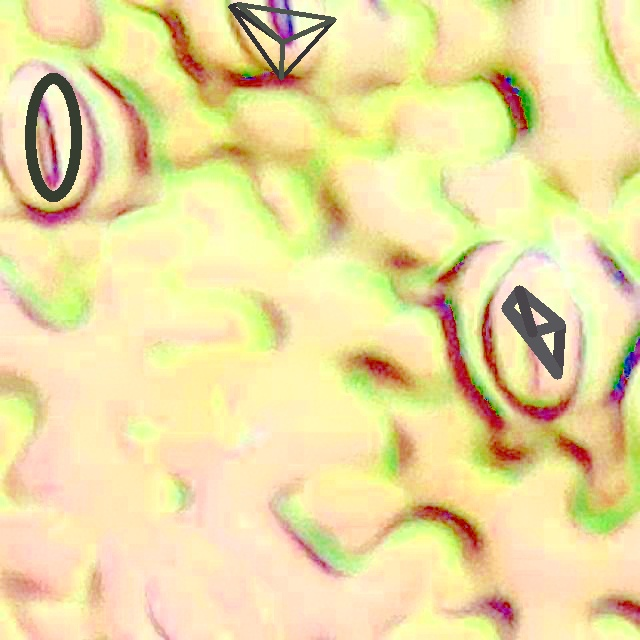close: (501, 285, 564, 379)
open: (228, 3, 335, 80), (25, 73, 81, 200)
